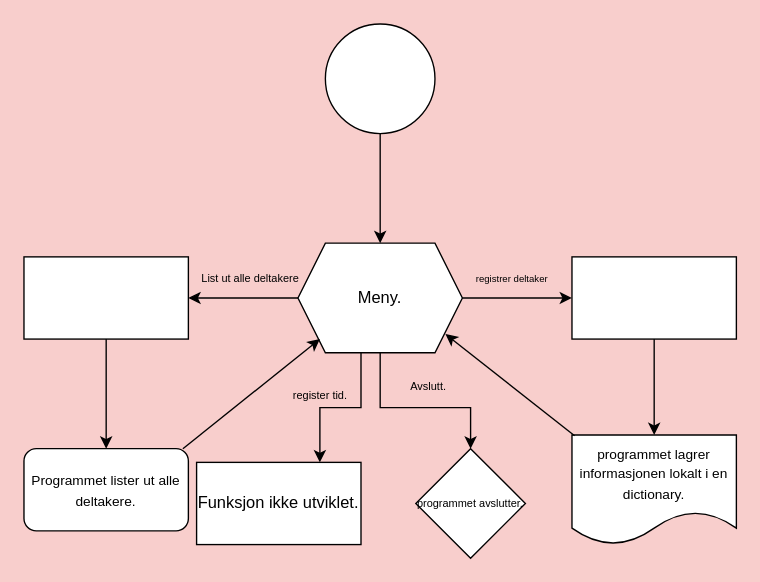
Some shapes in this 760 by 582 pixel diagram are drawn without their labels. Here are the shapes that lost their labels. From the top down, the centre of each, then its label:
pixel 379 78: bruker starter programmet
pixel 105 297: Programmet henter informasjon om alle deltakere fra dict.
pixel 653 297: programmet spør om informasjon om deltaker.
